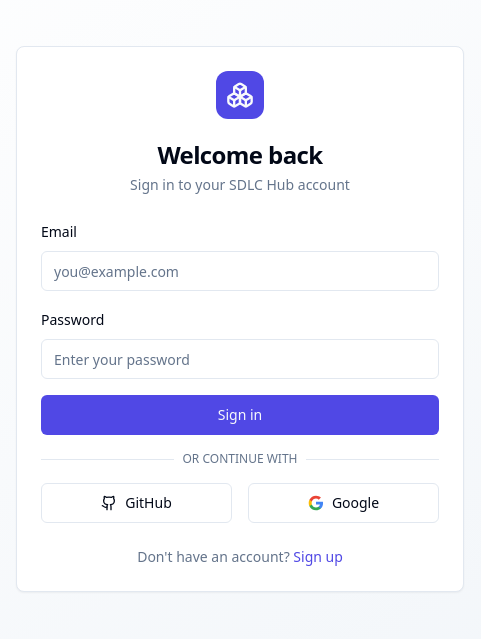
Test case: LoginPage › should show error alert on failed login
Type "bad@example.com" into the field labelled "Email" at x=240, y=271, box [41, 251, 439, 291]
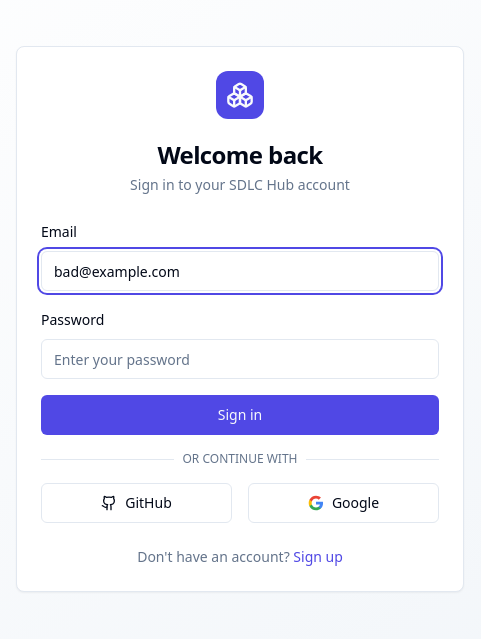
Type "wrongpass" into the password field labelled "Password" at x=240, y=359, box [41, 339, 439, 379]
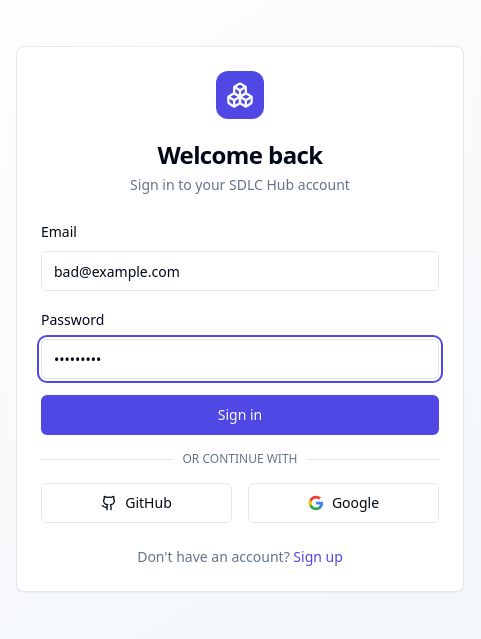
Click the button "Sign in" at x=240, y=415, box [41, 395, 439, 435]
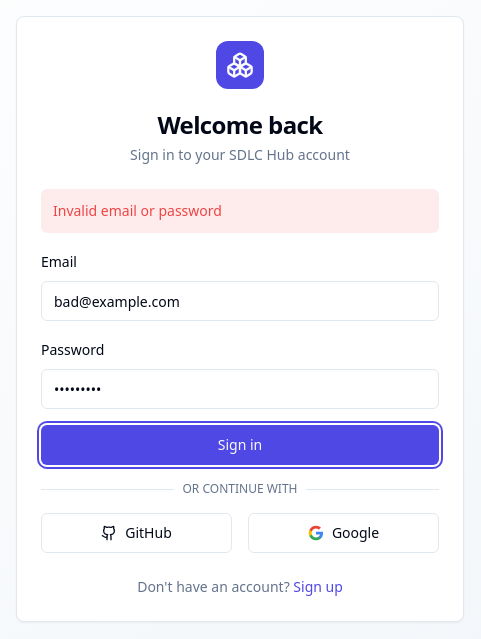
expect the message "Invalid email or password" is shown: met, box [41, 189, 439, 233]
expect the message reads "Invalid email or password": met, box [53, 201, 222, 220]
